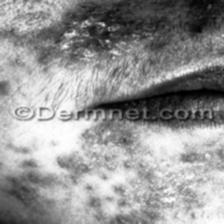Non-Cancerous Skin Condition: (55, 131, 137, 181), (48, 16, 129, 64), (166, 152, 206, 178), (150, 179, 180, 208), (106, 212, 144, 224)
